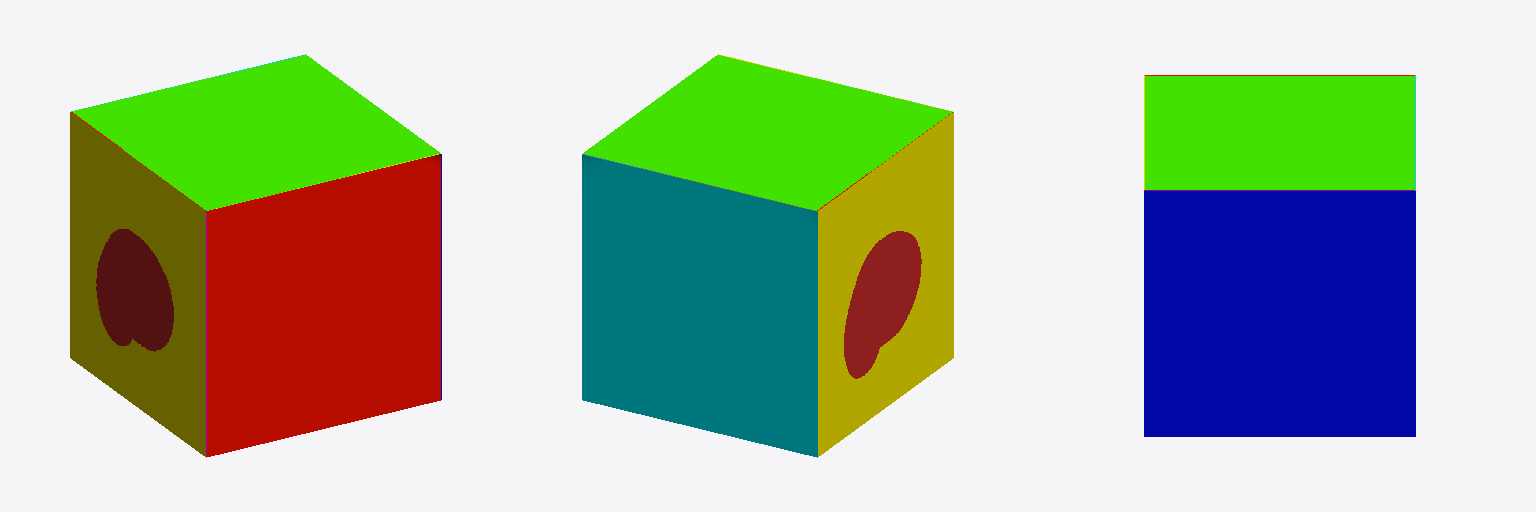
3 views of the same model, side by side, from view 1: azimuth 30°, elevation 25°; view 2: azimuth 150°, elevation 25°; view 3: azimuth 270°, elevation 25° (orthographic).
Visible parts, largest first — view 1: Cube; view 2: Cube; view 3: Cube.
Part boxes in pixels (x1,y1,x2,y2): Cube: (70, 54, 441, 457); Cube: (582, 54, 953, 457); Cube: (1144, 75, 1415, 436).
Size of the model in its own units: 2 by 2 by 2.
1 materials, 1 textured.